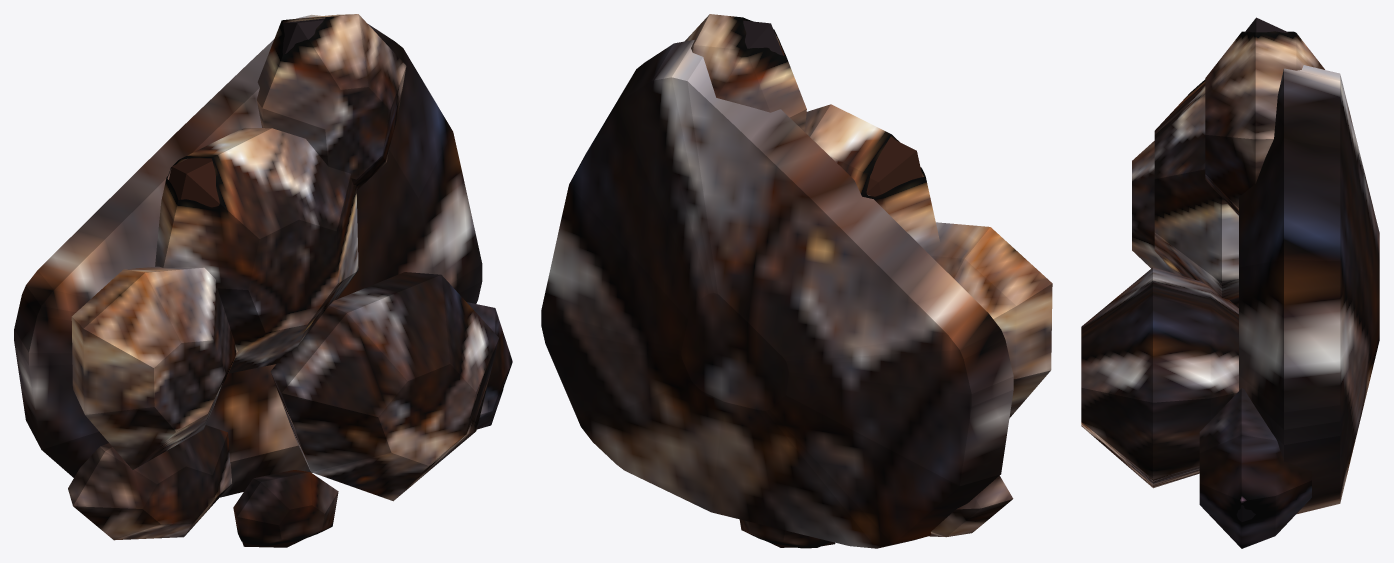
Rendered from raw_tin.obj.
The picture shows the model from 3 angles, left to right: view 1: azimuth 30°, elevation 25°; view 2: azimuth 150°, elevation 25°; view 3: azimuth 270°, elevation 25°; orthographic projection.
Visible parts, largest first — view 1: connected_ore_core, rock_3, rock_1, rock_2, rock_0, rock_4, rock_6, rock_5, rock_1_undercoat, rock_0_undercoat; view 2: connected_ore_core, rock_2, rock_0, rock_1, rock_4, rock_1_undercoat, rock_6, rock_0_undercoat; view 3: connected_ore_core, rock_3, rock_1, rock_0, rock_5, rock_2.
Boxes of the visible parts, box(x1,y1,x2,y2) form: connected_ore_core: box(14, 14, 482, 497); rock_3: box(270, 272, 498, 501); rock_1: box(155, 128, 358, 373); rock_2: box(71, 266, 237, 469); rock_0: box(257, 14, 406, 190); rock_4: box(68, 425, 231, 540); rock_6: box(233, 470, 338, 545); rock_5: box(467, 302, 512, 429); rock_1_undercoat: box(168, 158, 219, 207); rock_0_undercoat: box(282, 18, 324, 54); connected_ore_core: box(541, 40, 1013, 548); rock_2: box(930, 222, 1052, 418); rock_0: box(684, 14, 806, 131); rock_1: box(805, 104, 940, 254); rock_4: box(929, 475, 1013, 537); rock_1_undercoat: box(866, 137, 922, 196); rock_6: box(739, 519, 831, 548); rock_0_undercoat: box(743, 20, 783, 55); connected_ore_core: box(1239, 65, 1379, 514); rock_3: box(1081, 267, 1238, 488); rock_1: box(1154, 79, 1238, 307); rock_0: box(1205, 31, 1324, 217); rock_5: box(1199, 388, 1311, 548); rock_2: box(1132, 141, 1175, 273).
Bounding box in the file's own units: 98.44 × 106 × 55.18.
Materials: 2 (2 with a texture image).
